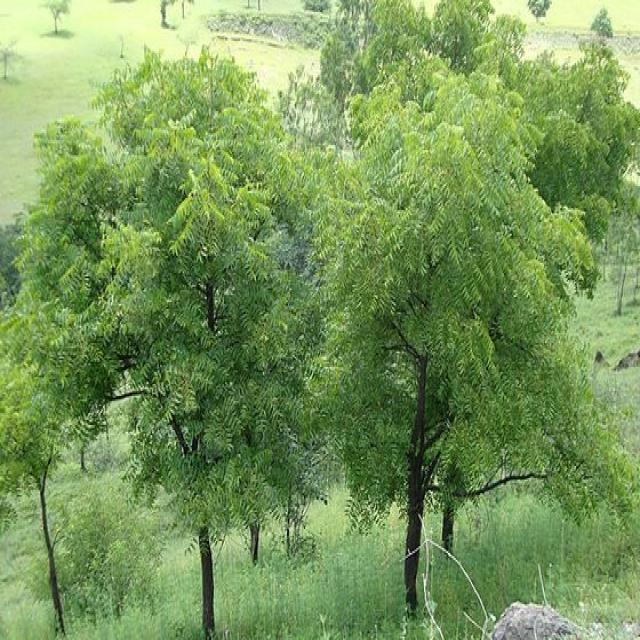Medicinal-Neem: (360, 76, 536, 298), (12, 118, 131, 441), (138, 88, 283, 268), (136, 346, 270, 528), (543, 64, 640, 284), (302, 331, 398, 536), (459, 309, 536, 479)
